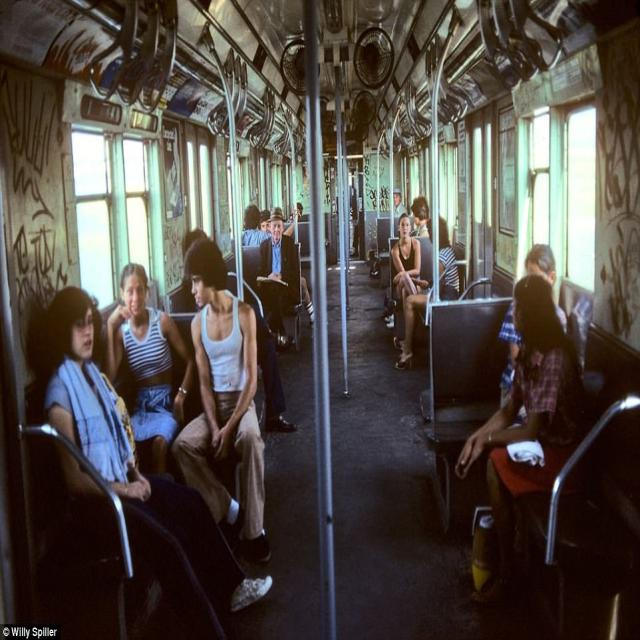body: (36, 281, 272, 616), (451, 277, 580, 612), (167, 233, 273, 566), (179, 226, 303, 433), (104, 261, 194, 482), (496, 243, 568, 424), (392, 212, 462, 371), (257, 205, 301, 325), (258, 207, 300, 331), (389, 211, 424, 357), (240, 203, 274, 247), (347, 180, 362, 259), (408, 195, 432, 238), (285, 195, 305, 223), (393, 187, 409, 218)
